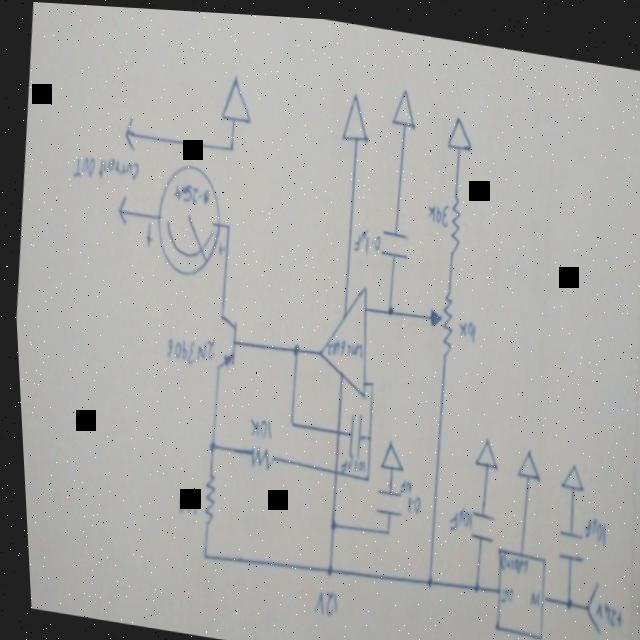capacitor: (549, 519, 582, 559), (376, 221, 408, 256), (367, 481, 399, 515), (461, 503, 491, 539), (340, 405, 359, 456)
crossover: (325, 461, 335, 478), (328, 420, 337, 435)
ground: (216, 68, 254, 125), (337, 85, 371, 141), (387, 81, 418, 127), (442, 107, 474, 147), (466, 429, 495, 466), (510, 440, 539, 476), (553, 452, 582, 487), (374, 433, 401, 469)
junction: (284, 335, 299, 355), (320, 511, 333, 531), (201, 436, 212, 456), (381, 296, 392, 315), (318, 557, 328, 577), (556, 588, 567, 606), (418, 569, 428, 585), (357, 466, 366, 480), (466, 575, 474, 590), (282, 415, 292, 427), (194, 548, 203, 561), (363, 372, 371, 386), (221, 218, 229, 231), (225, 139, 234, 150), (378, 522, 385, 533), (361, 427, 367, 439)
resistor: (420, 281, 455, 354), (441, 187, 462, 253), (193, 468, 212, 524), (242, 440, 270, 468)
terminal: (575, 571, 599, 629), (120, 112, 136, 152), (113, 192, 127, 225)
text: (69, 147, 139, 189), (159, 327, 213, 366), (168, 178, 211, 206), (348, 219, 380, 254), (391, 471, 419, 511), (319, 332, 360, 357), (576, 505, 604, 541), (587, 590, 618, 622), (304, 582, 334, 615), (422, 192, 449, 225), (241, 411, 269, 440), (440, 500, 468, 529), (491, 546, 524, 570), (168, 487, 194, 517), (451, 310, 475, 340), (333, 451, 362, 473), (499, 632, 540, 640), (492, 580, 509, 598), (521, 584, 536, 602)
transistor: (207, 307, 237, 370)
